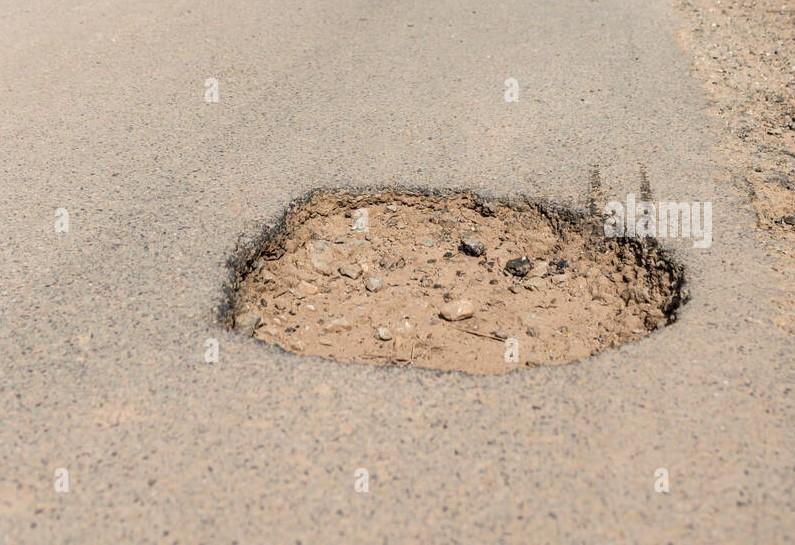pothole: (215, 170, 695, 391)
